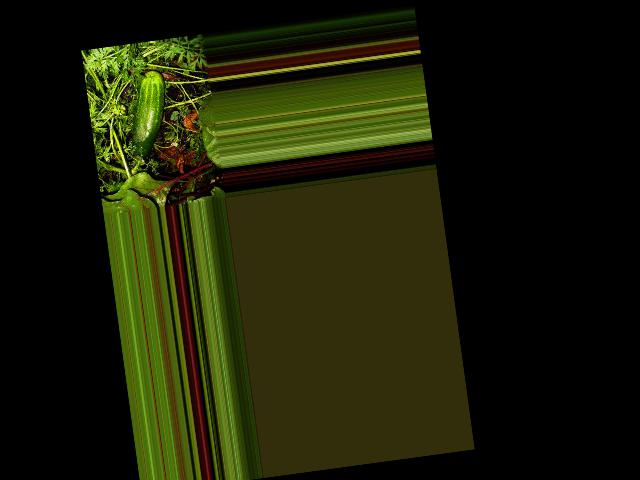cucumber: (121, 71, 173, 159)
